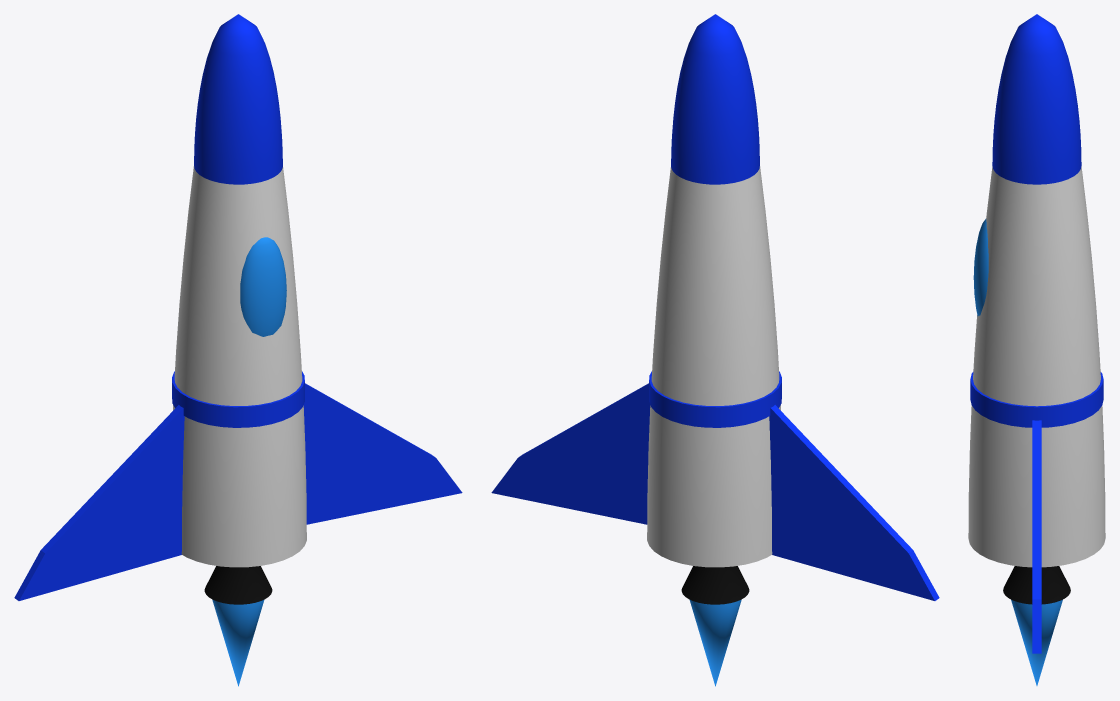
Rendered from Rocket_16_StratoWing.obj.
3 views of the same model, side by side, from view 1: azimuth 30°, elevation 25°; view 2: azimuth 150°, elevation 25°; view 3: azimuth 270°, elevation 25° (orthographic).
Parts seen in each view (by area): view 1: R16_Body, R16_Fin_2, R16_Fin_1, R16_Nose, R16_Cockpit, R16_Band_1, R16_Flame_1, R16_Nozzle_1; view 2: R16_Body, R16_Fin_2, R16_Fin_1, R16_Nose, R16_Band_1, R16_Flame_1, R16_Nozzle_1; view 3: R16_Body, R16_Nose, R16_Band_1, R16_Fin_1, R16_Nozzle_1, R16_Flame_1, R16_Cockpit.
Boxes of the visible parts, bbox=[...] form: R16_Body: bbox=[173, 166, 306, 567]; R16_Fin_2: bbox=[14, 405, 184, 600]; R16_Fin_1: bbox=[303, 383, 462, 524]; R16_Nose: bbox=[194, 14, 282, 184]; R16_Cockpit: bbox=[240, 237, 286, 336]; R16_Band_1: bbox=[172, 371, 304, 427]; R16_Flame_1: bbox=[212, 599, 264, 686]; R16_Nozzle_1: bbox=[204, 566, 272, 604]; R16_Body: bbox=[647, 166, 780, 567]; R16_Fin_2: bbox=[769, 405, 939, 600]; R16_Fin_1: bbox=[491, 383, 650, 524]; R16_Nose: bbox=[671, 14, 759, 184]; R16_Band_1: bbox=[649, 371, 781, 427]; R16_Flame_1: bbox=[689, 599, 741, 686]; R16_Nozzle_1: bbox=[681, 566, 749, 604]; R16_Body: bbox=[968, 166, 1105, 567]; R16_Nose: bbox=[992, 14, 1081, 184]; R16_Band_1: bbox=[970, 372, 1103, 427]; R16_Fin_1: bbox=[1032, 420, 1041, 653]; R16_Nozzle_1: bbox=[1003, 566, 1070, 604]; R16_Flame_1: bbox=[1011, 599, 1062, 685]; R16_Cockpit: bbox=[973, 219, 988, 316].
Bounding box in the file's own units: 6.73 × 9.75 × 1.8.
